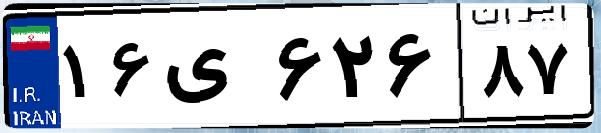1: (57, 26, 110, 100)
2: (330, 28, 385, 110)
6: (270, 28, 330, 110), (385, 28, 445, 110), (110, 28, 158, 98)
7: (525, 38, 570, 115)
8: (475, 38, 525, 113)
ی: (158, 20, 270, 120)
